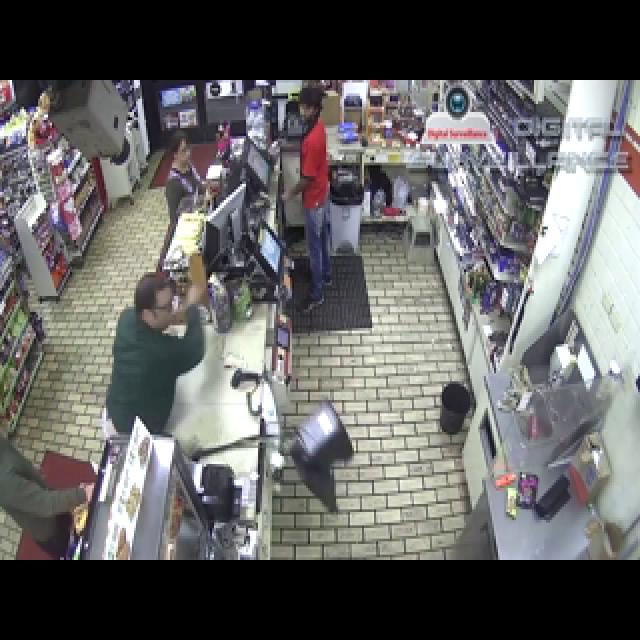vandalism: (1, 75, 640, 558)
